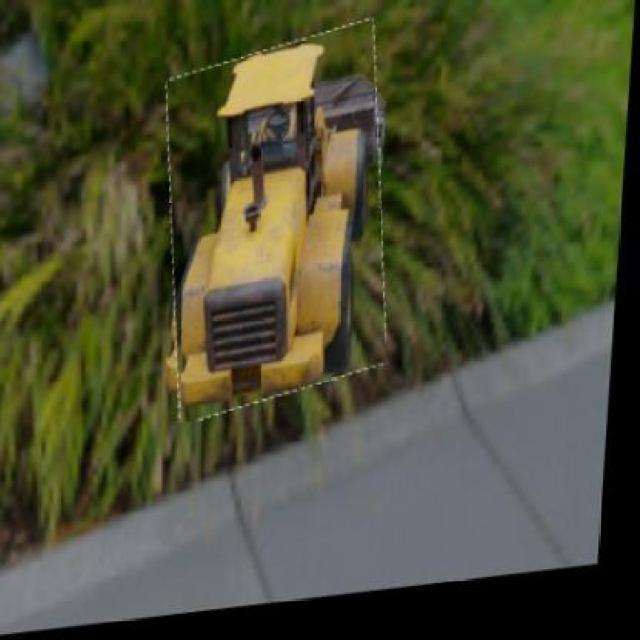buldozerpayloadergrader: (182, 39, 380, 413)
